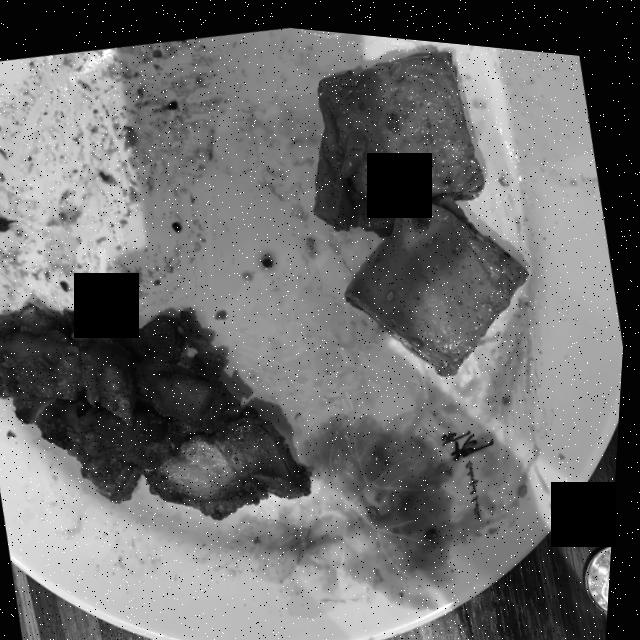coin: (591, 532, 617, 601)
creamy tofu: (316, 42, 530, 366)
red grilled pork: (0, 297, 316, 514)
